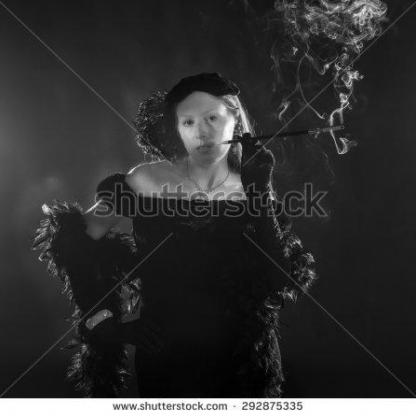smoke: (281, 0, 387, 118)
